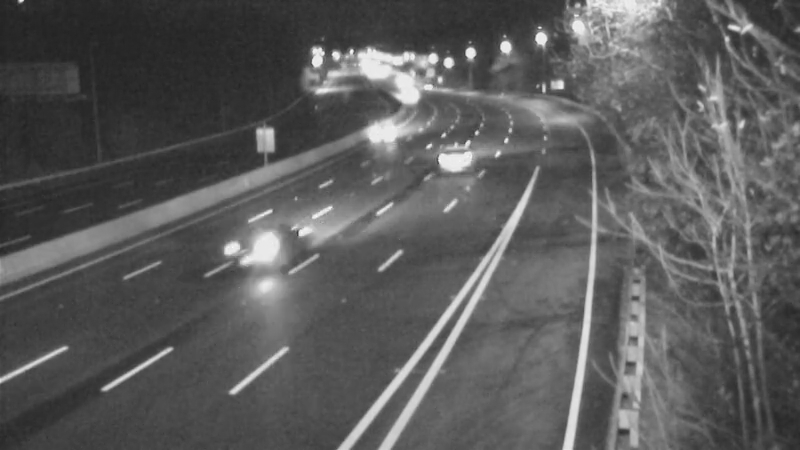vehicle: (417, 116, 497, 196), (218, 208, 298, 288), (385, 73, 435, 123), (361, 108, 411, 158)
